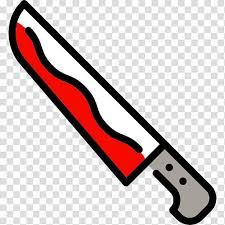Knife: (8, 0, 216, 224)
